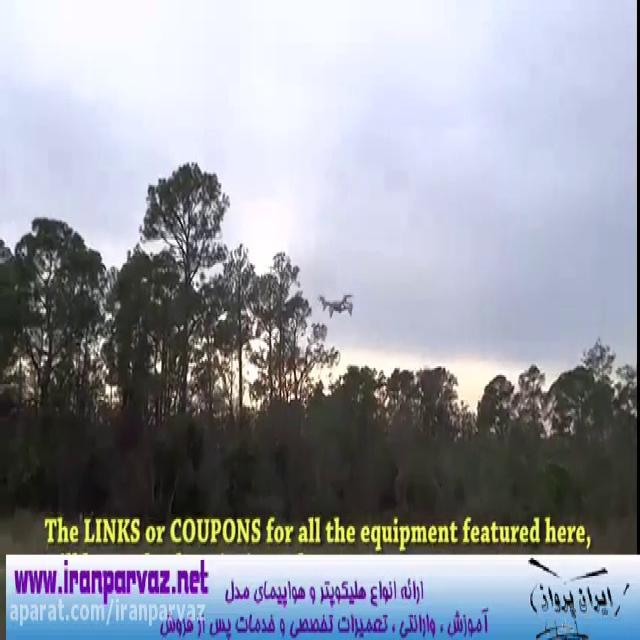drone: (315, 286, 356, 318)
